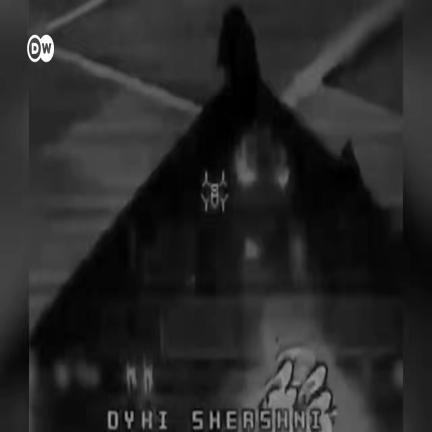Shahed: (30, 6, 407, 431)
